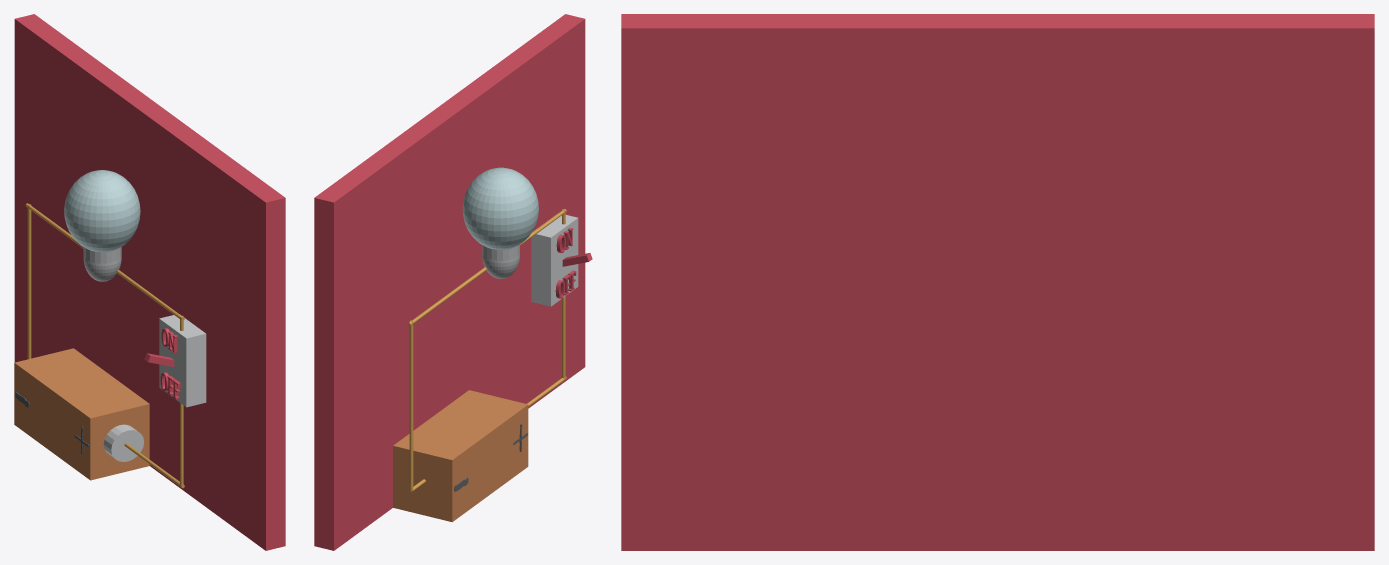
File: circuit.glb
The picture shows the model from 3 angles, left to right: view 1: azimuth 30°, elevation 25°; view 2: azimuth 150°, elevation 25°; view 3: azimuth 270°, elevation 25°; orthographic projection. The views are drawn at different scales.
Parts seen in each view (by area): view 1: Mesh_Mesh_head_geo.001_lambert2SG.001; view 2: Mesh_Mesh_head_geo.001_lambert2SG.001; view 3: Mesh_Mesh_head_geo.001_lambert2SG.001.
Boxes of the visible parts, left/top/right/bottom form: Mesh_Mesh_head_geo.001_lambert2SG.001: left=14, top=14, right=285, bottom=550; Mesh_Mesh_head_geo.001_lambert2SG.001: left=314, top=14, right=592, bottom=550; Mesh_Mesh_head_geo.001_lambert2SG.001: left=621, top=14, right=1374, bottom=550.
Size of the model in its own units: 28 by 101 by 132.
